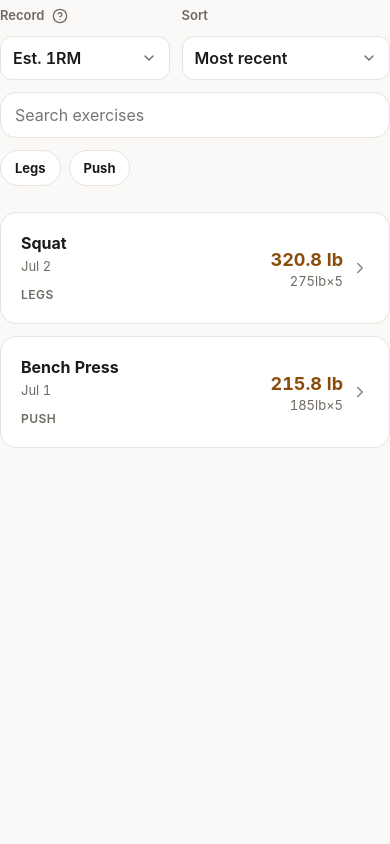
Test: PRsTab tags, filtering, and row navigation › tapping a PR row offers both destinations rather than jumping straight to one
The width and height of the screenshot is (390, 844).
expect the button "Push" is shown: met, box [69,150,130,186]
Click the text "Bench Press" at (70, 367), box [21,355,119,379]
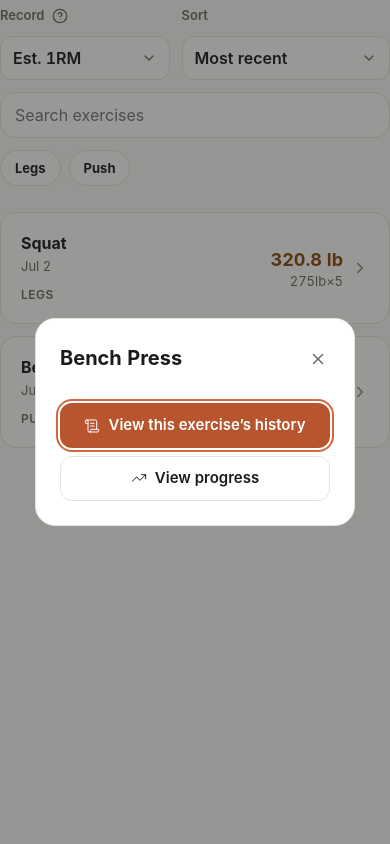
expect the dialog shows "Bench Press": met, box [60,346,182,370]
expect the button "View this exercise’s history" is shown: met, box [60,403,330,448]
expect the button "View progress" is shown: met, box [60,456,330,501]
